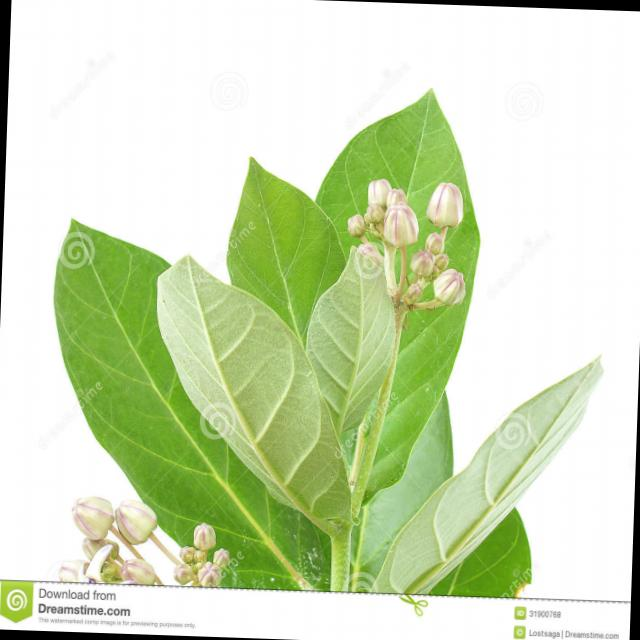Poisonous-Calatropis: (48, 79, 493, 596)
